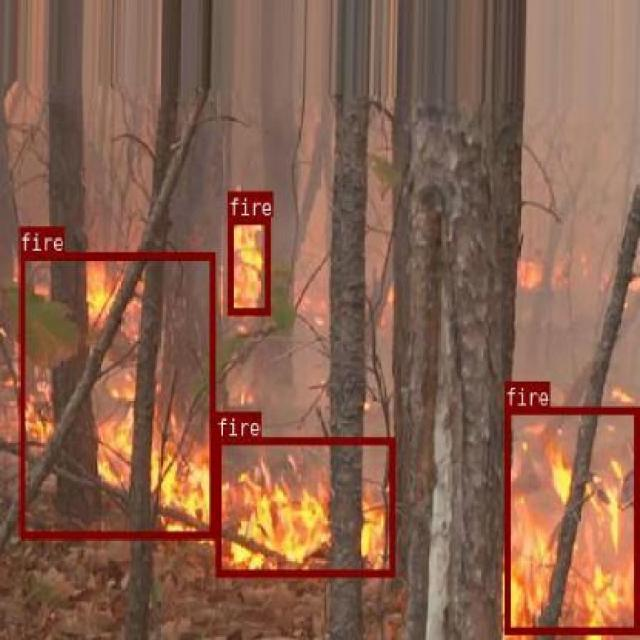Fire: (18, 252, 214, 538), (504, 406, 638, 632), (215, 437, 392, 575), (226, 215, 269, 312)
